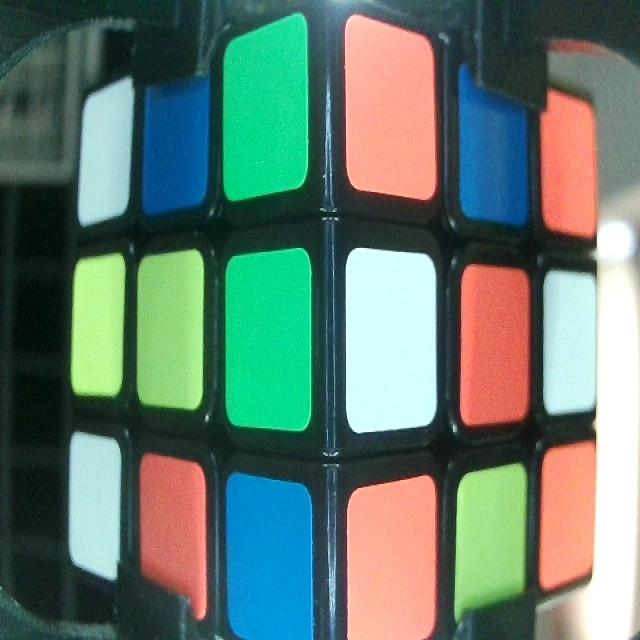b: (230, 484, 308, 632), (458, 66, 528, 216), (148, 73, 205, 209)
g: (226, 252, 306, 429), (225, 32, 304, 199)
o: (346, 17, 434, 189), (349, 490, 434, 640), (138, 460, 208, 610), (464, 266, 529, 421), (541, 92, 596, 228), (544, 450, 594, 582)
w: (349, 253, 433, 429), (543, 279, 595, 417), (79, 92, 131, 221), (68, 437, 118, 570)
y: (137, 254, 203, 399), (458, 472, 522, 611), (74, 260, 120, 392)
